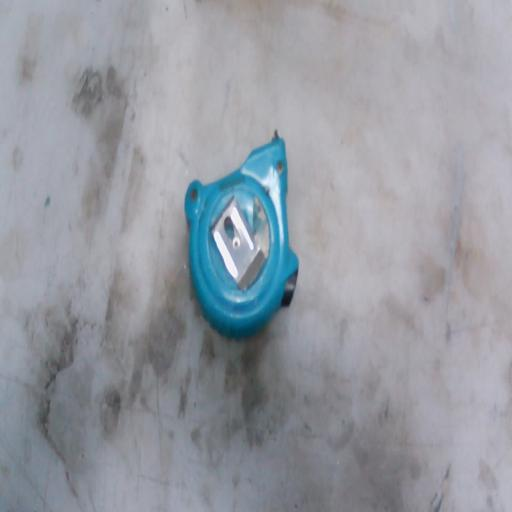meteran: (184, 130, 299, 339)
